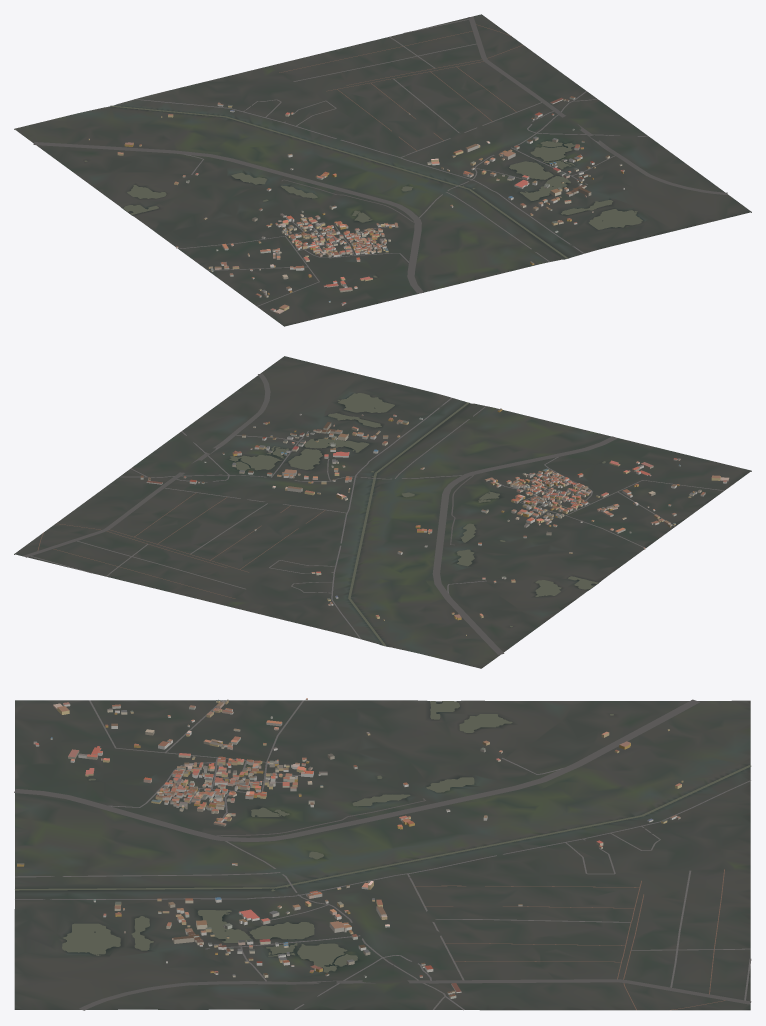
3 views of the same model, one above another, from view 1: azimuth 30°, elevation 25°; view 2: azimuth 150°, elevation 25°; view 3: azimuth 270°, elevation 25° (orthographic). The views are drawn at different scales.
Visible parts, largest first — view 1: ground, roads, buildings, water; view 2: ground, roads, buildings, water; view 3: ground, roads, buildings, water.
Part boxes in pixels (x1=…): ground: x1=14, y1=14, x2=751, y2=326; roads: x1=33, y1=16, x2=727, y2=306; buildings: x1=88, y1=96, x2=624, y2=313; water: x1=84, y1=105, x2=642, y2=277; ground: x1=14, y1=356, x2=751, y2=668; roads: x1=23, y1=373, x2=724, y2=654; buildings: x1=140, y1=408, x2=729, y2=635; water: x1=229, y1=393, x2=605, y2=645; ground: x1=14, y1=700, x2=750, y2=1010; roads: x1=14, y1=699, x2=751, y2=1010; buildings: x1=17, y1=698, x2=683, y2=998; water: x1=15, y1=701, x2=751, y2=972.
Size of the model in its own units: 1409 by 15.18 by 1406.
